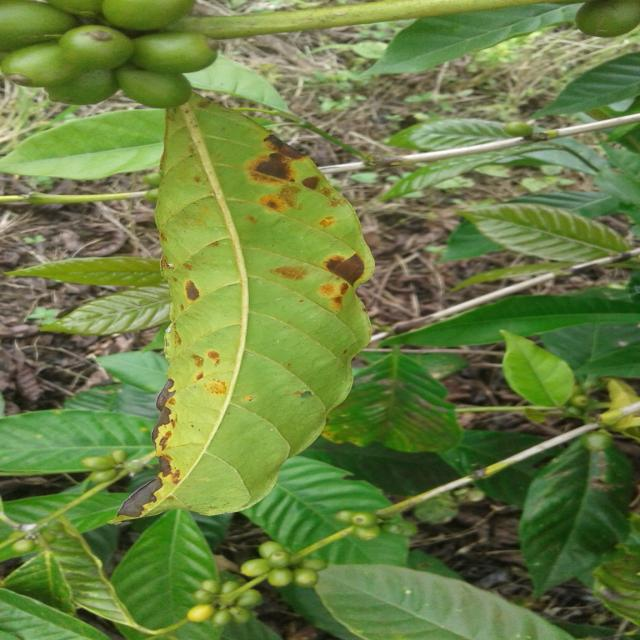Enfermedad-Roya: (139, 95, 375, 519)
